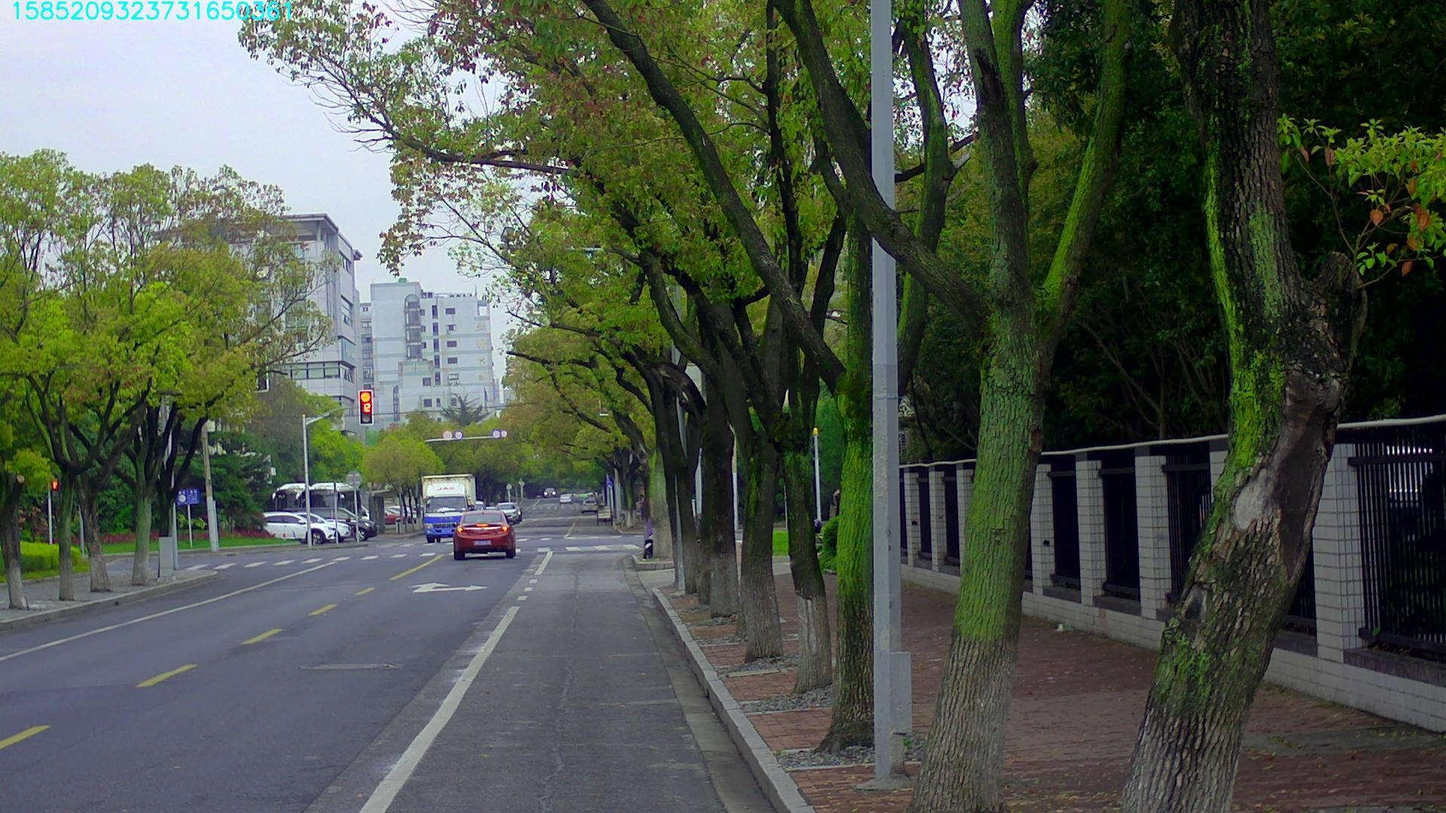red: (358, 390, 372, 424)
